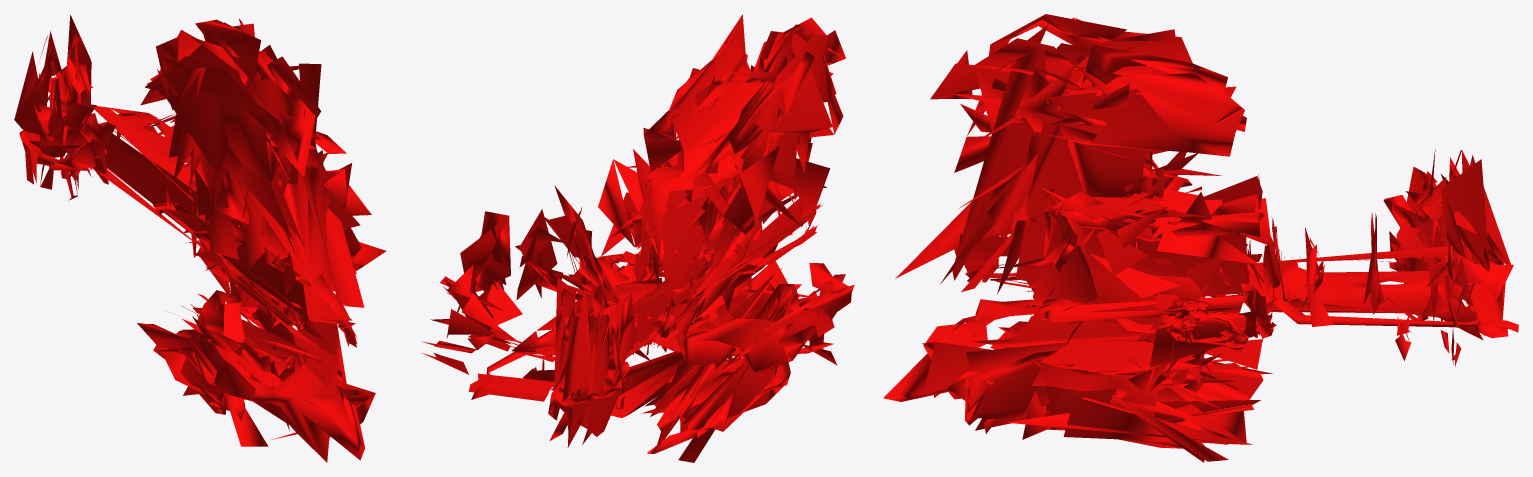
3 views of the same model, side by side, from view 1: azimuth 30°, elevation 25°; view 2: azimuth 150°, elevation 25°; view 3: azimuth 270°, elevation 25° (orthographic). The views are drawn at different scales.
Visible parts, largest first — view 1: Renderer Node; view 2: Renderer Node; view 3: Renderer Node.
Part boxes in pixels (x1,y1,x2,y2): Renderer Node: (14,14,386,462); Renderer Node: (422,14,854,462); Renderer Node: (883,14,1518,462).
Bounding box in the file's own units: 0.6012 × 0.9375 × 1.32.
Materials: 1 (1 with a texture image).
